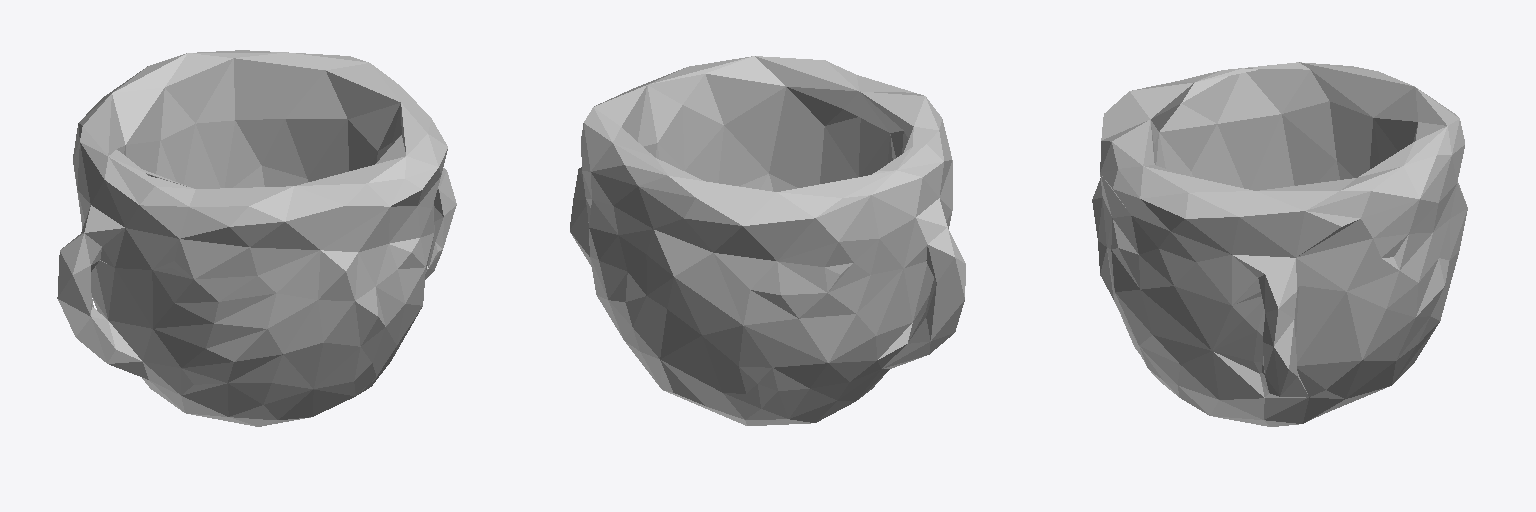
File: primitive_handled_pot.obj
The picture shows the model from 3 angles: view 1: azimuth 30°, elevation 25°; view 2: azimuth 150°, elevation 25°; view 3: azimuth 270°, elevation 25°; orthographic projection.
Visible parts, largest first — view 1: Volume3; view 2: Volume3; view 3: Volume3.
Part boxes in pixels (x1,y1,x2,y2): Volume3: (57, 50, 456, 426); Volume3: (570, 56, 965, 425); Volume3: (1092, 62, 1467, 426).
Bounding box in the file's own units: 29.01 × 19.3 × 23.88.